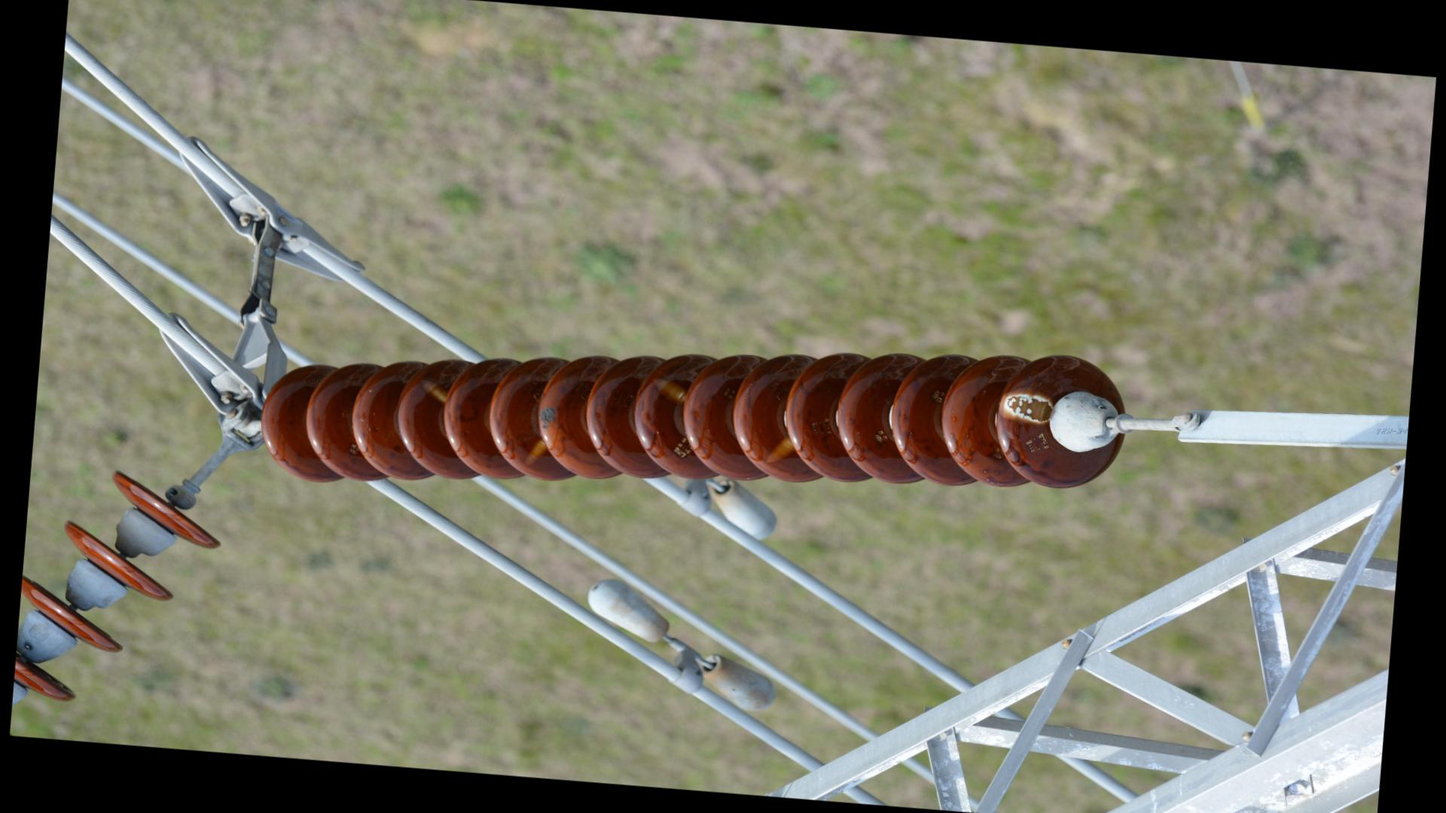damper: (575, 572, 791, 719), (672, 474, 785, 546)
